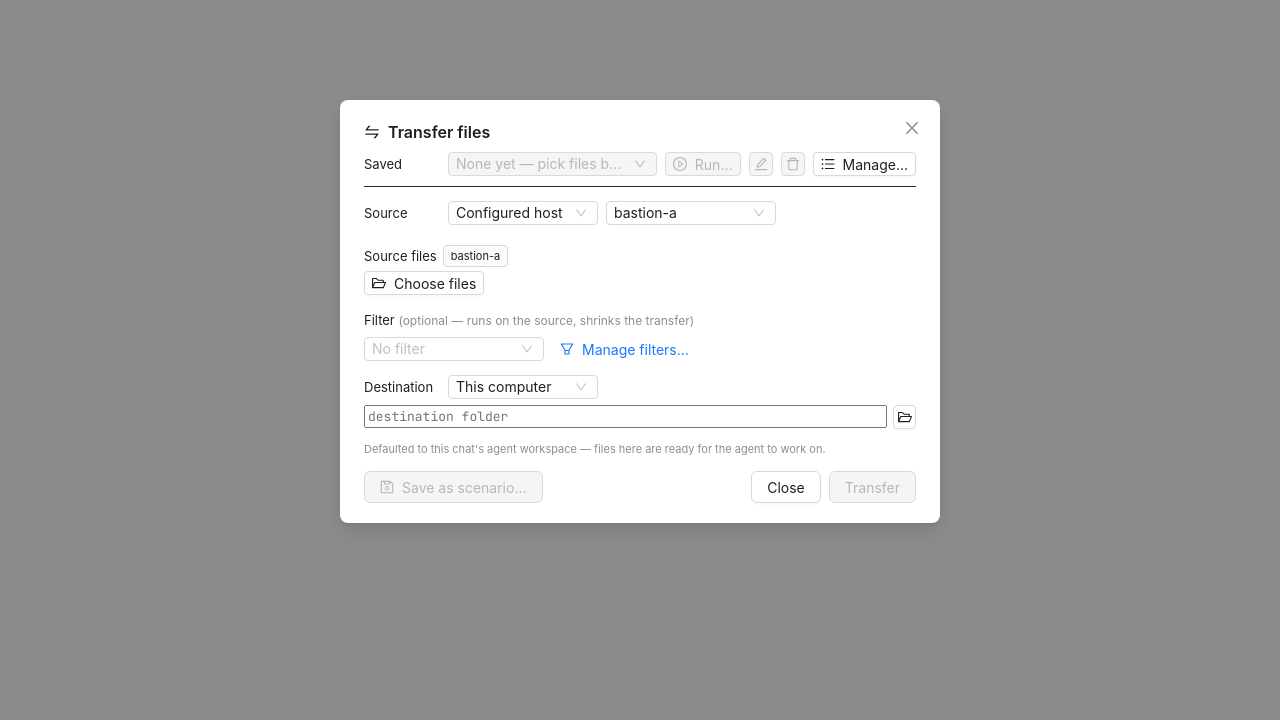
Test: TransferModal › reveals ad-hoc fields with an optional (blank) jump, and a target alone is enough
Expected: the text "Transfer files" is shown, [364,122,490,142]
Click the dropdown labelled "Configured host" at [509, 212], box [456,204,563,221]
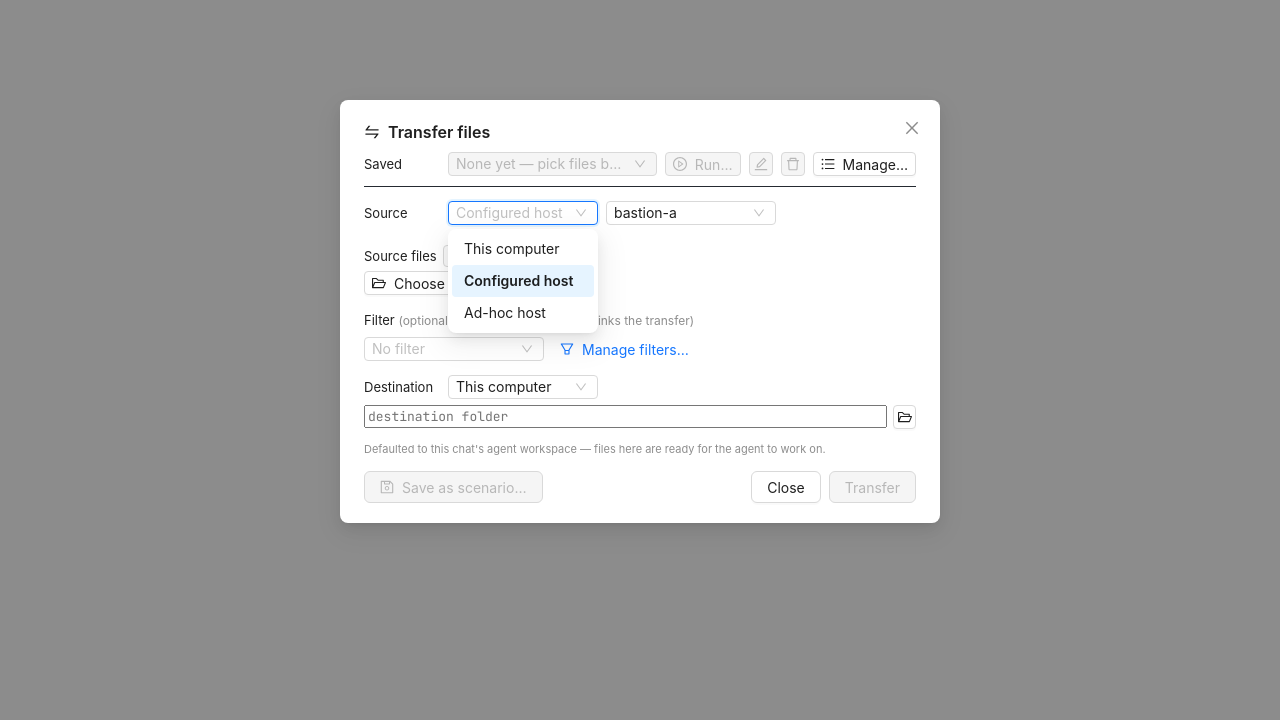
Click the text "Ad-hoc host" at [505, 312], box [464,304,546,321]
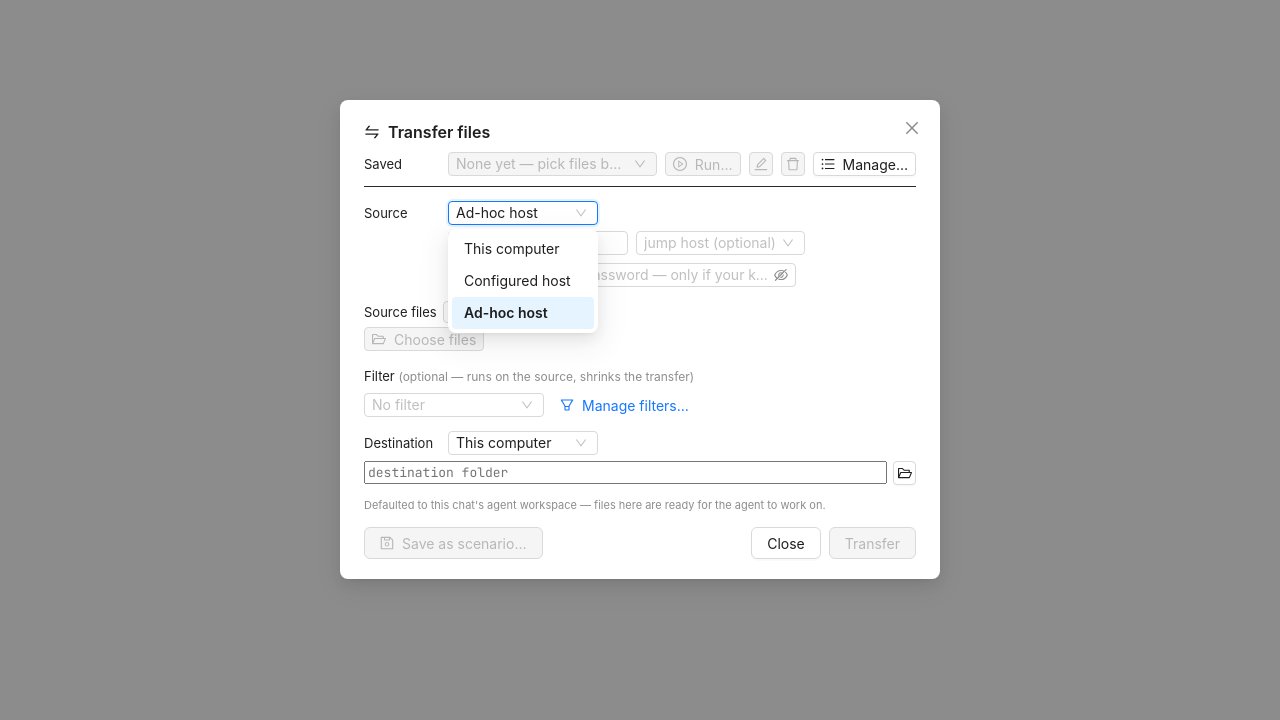
Result: the text "jump host (optional)" is shown at [644,232,797,254]
Result: the button "Choose files" is disabled at [364,327,484,351]
Type "db.internal" into the field with placeholder "target hostname" at [538, 243], box [448,231,628,255]
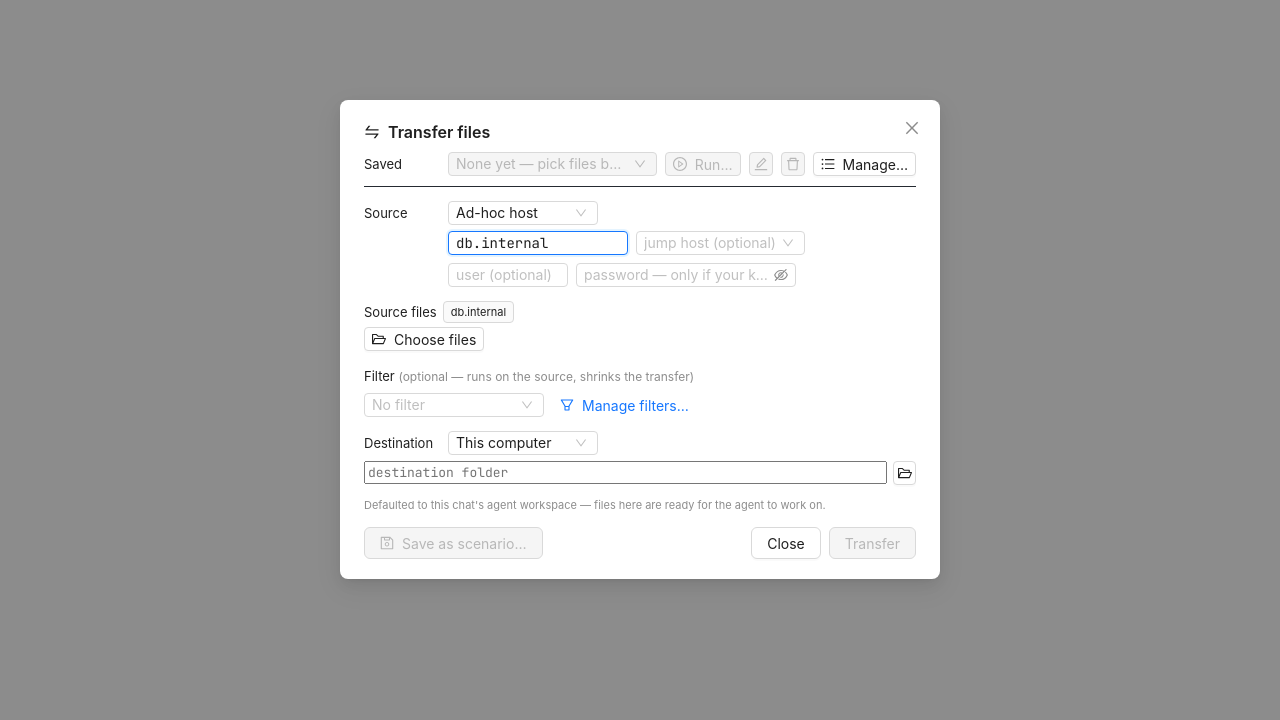
Result: the button "Choose files" is enabled at [364,327,484,351]
